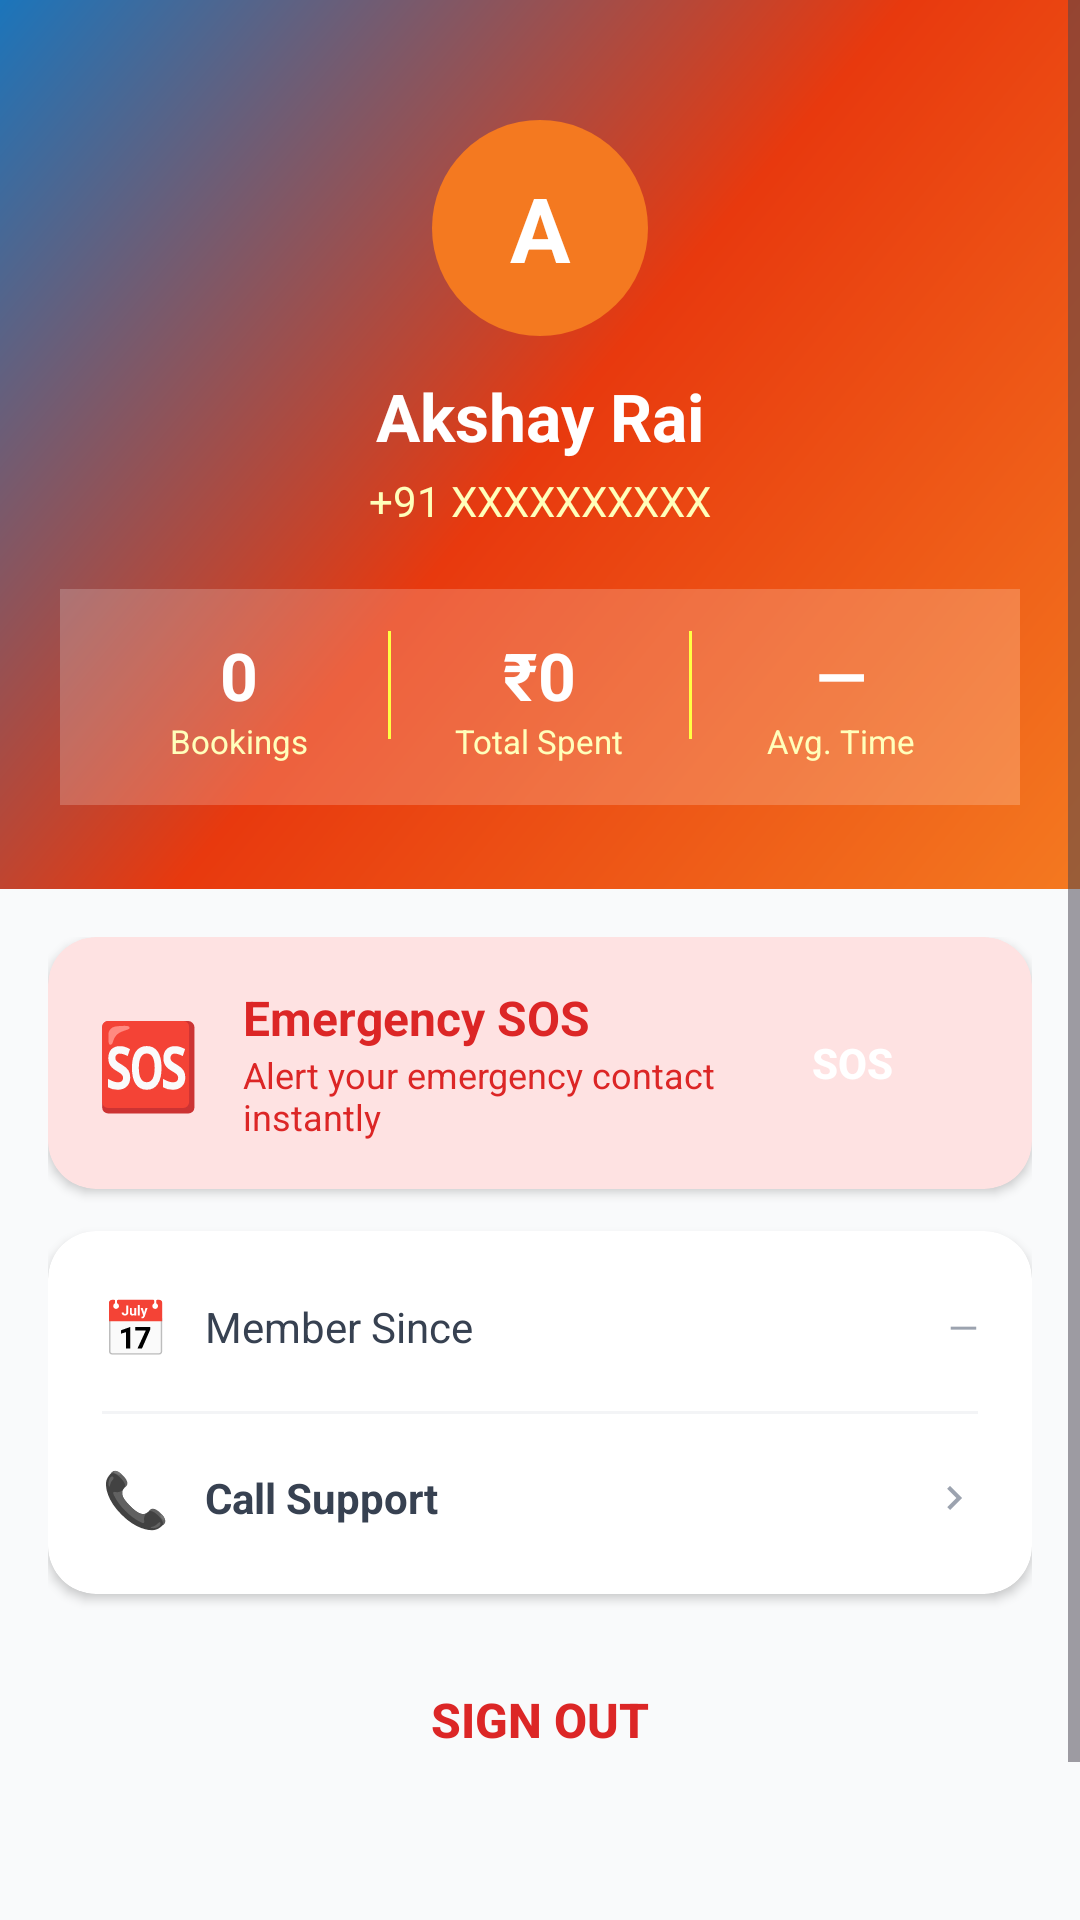

Icons on this 1080px x 1920px Android screen, each with its box as (x1, y1, x2, y2):
arrow right: (947, 1486, 962, 1510)
